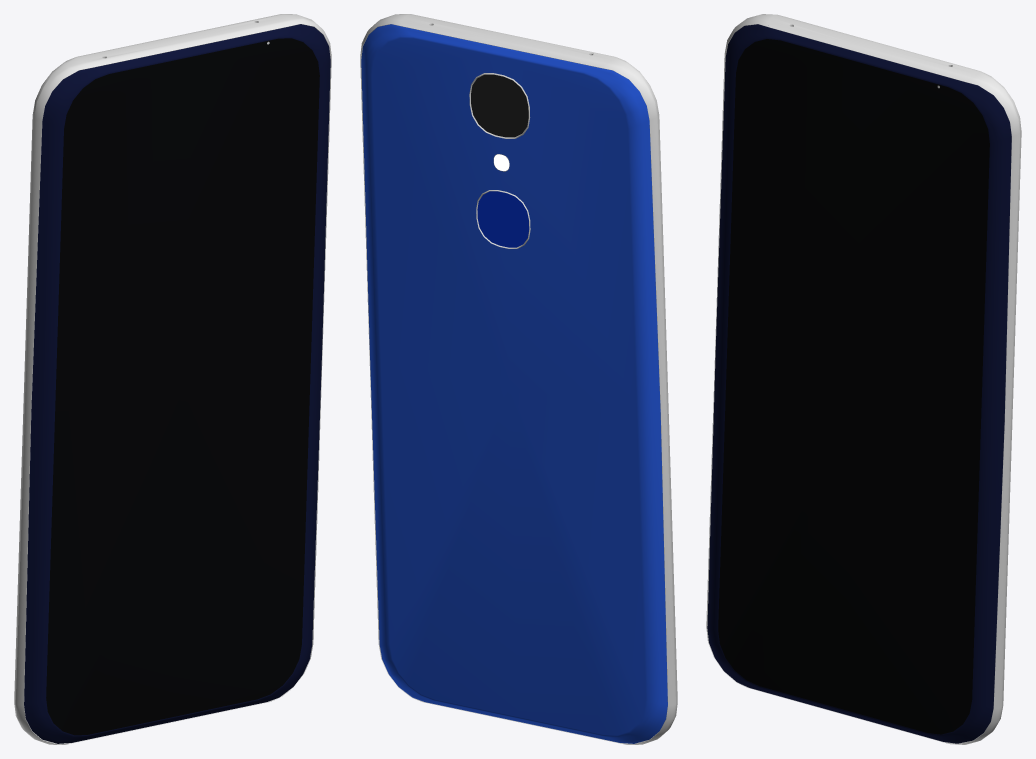
File: dev-smartphone.glb
The picture shows the model from 3 angles, left to right: view 1: azimuth 30°, elevation 25°; view 2: azimuth 150°, elevation 25°; view 3: azimuth 330°, elevation 25°; orthographic projection.
Parts seen in each view (by area): view 1: body; view 2: body; view 3: body.
Part boxes in pixels (<box>): body: <box>14,14,331,744</box>; body: <box>360,14,677,744</box>; body: <box>706,14,1021,744</box>.
Bounding box in the file's own units: 0.0761 × 0.158 × 0.00874.
